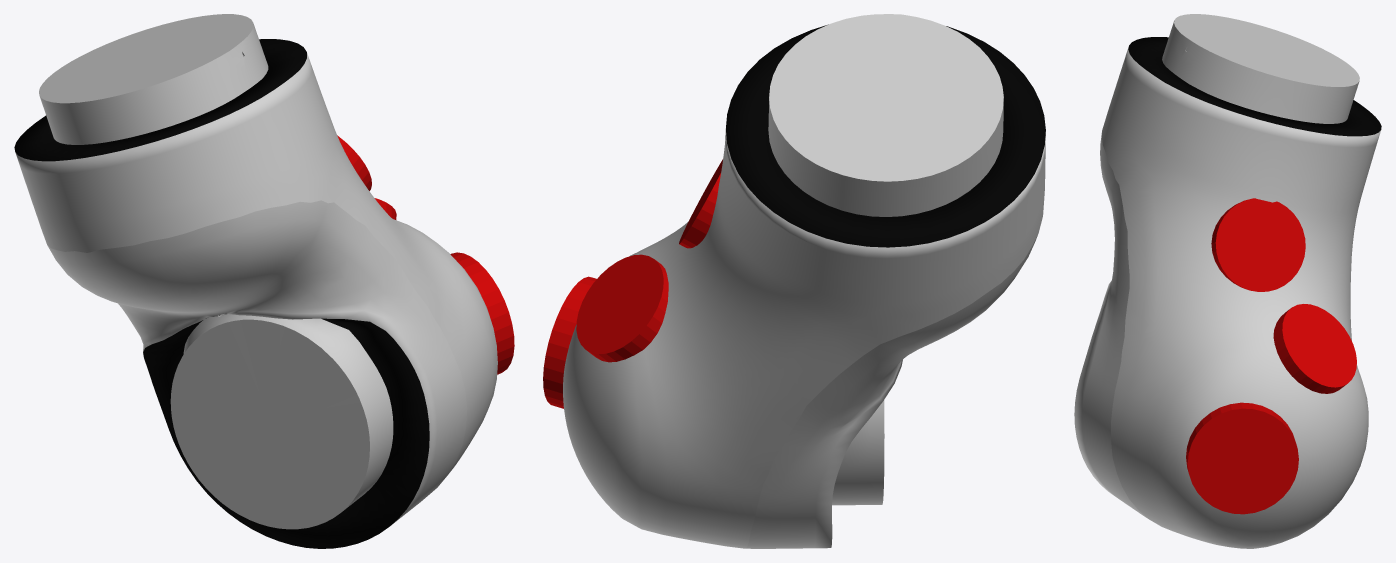
Rendered from panda_link2.002.obj.
The picture shows the model from 3 angles, left to right: view 1: azimuth 30°, elevation 25°; view 2: azimuth 150°, elevation 25°; view 3: azimuth 270°, elevation 25°; orthographic projection. The views are drawn at different scales.
Visible parts, largest first — view 1: panda_link2.002; view 2: panda_link2.002; view 3: panda_link2.002.
Boxes of the visible parts, x1,y1,x2,y2 form: panda_link2.002: (14,14,514,548); panda_link2.002: (543,14,1045,548); panda_link2.002: (1074,14,1381,548).
Size of the model in its own units: 0.2518 by 0.2758 by 0.1732.
